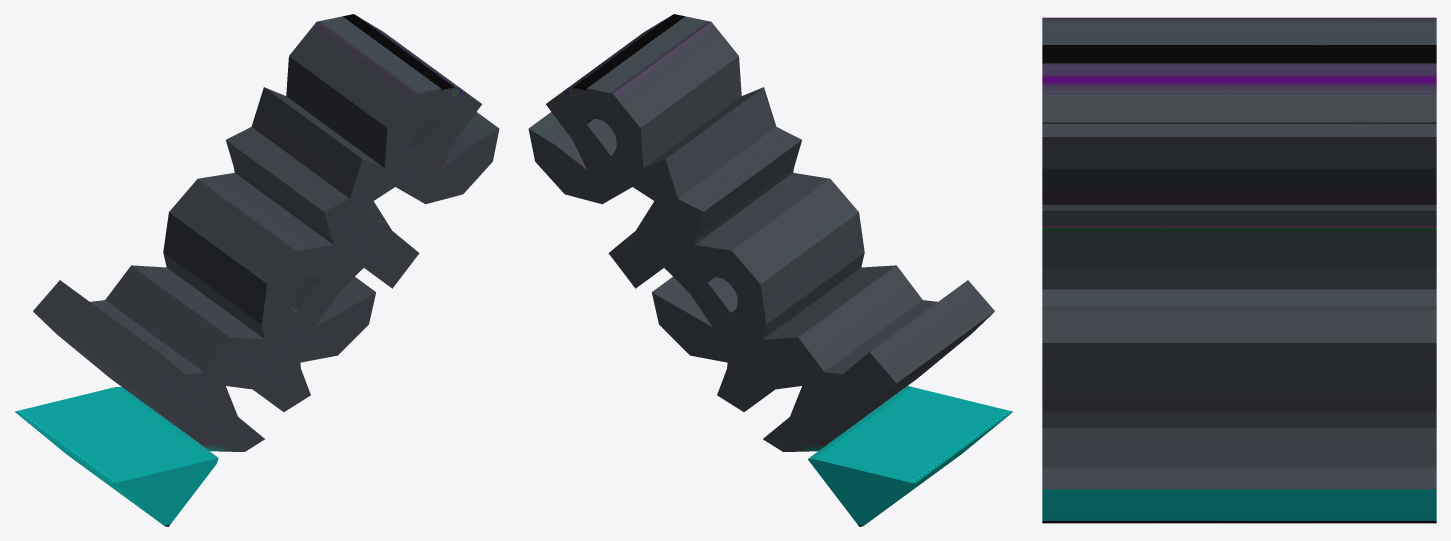
File: here-global-b-v.glb
3 renders of one model, left to right at view 1: azimuth 30°, elevation 25°; view 2: azimuth 150°, elevation 25°; view 3: azimuth 270°, elevation 25°, orthographic. The views are drawn at different scales.
Parts seen in each view (by area): view 1: Curve; view 2: Curve; view 3: Curve.
Part boxes in pixels (x1=…): Curve: x1=15, y1=14, x2=499, y2=526; Curve: x1=528, y1=14, x2=1012, y2=526; Curve: x1=1042, y1=17, x2=1436, y2=523.
Size of the model in its own units: 0.0113 by 0.0104 by 0.005.
1 material, 1 textured.
